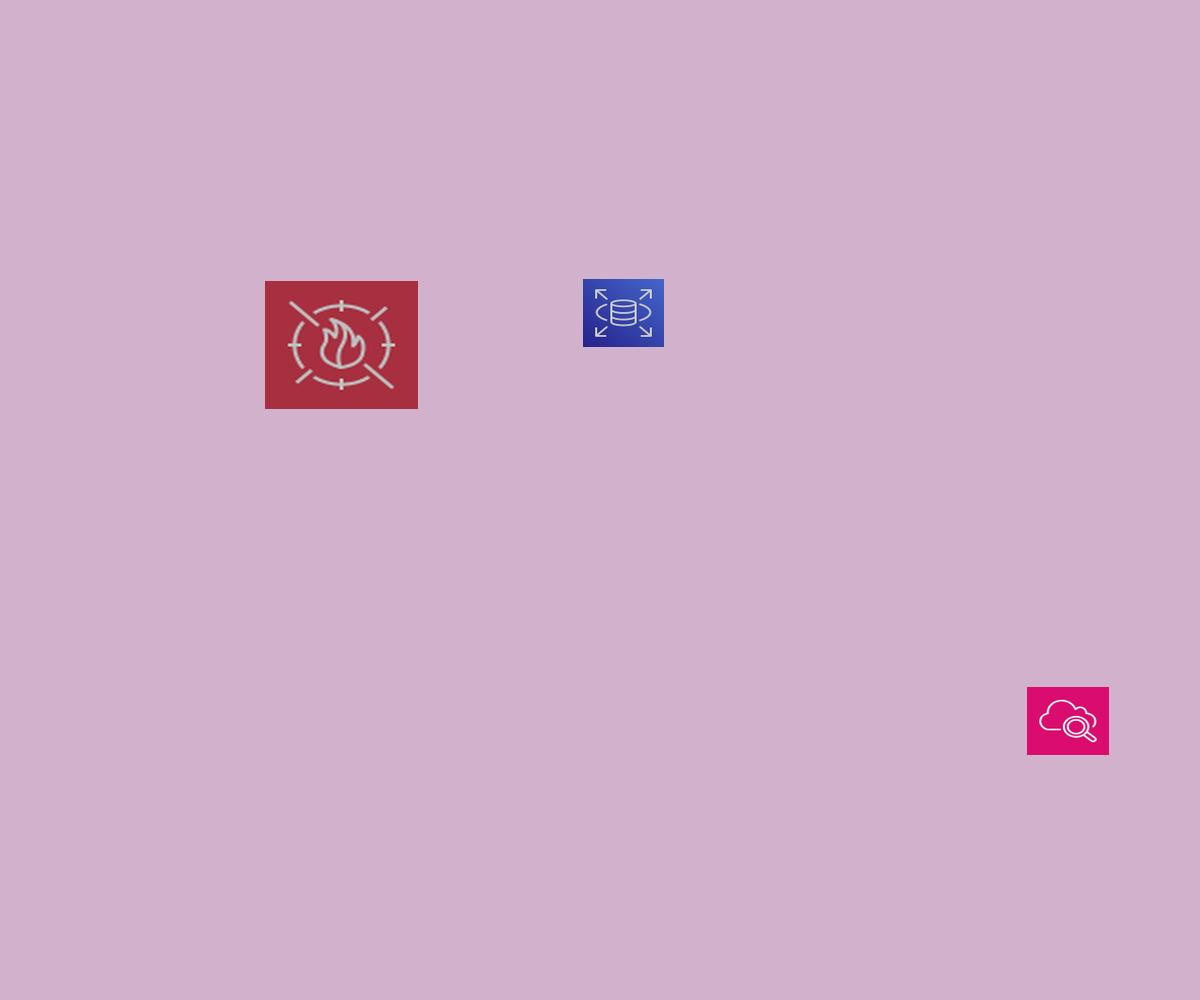AWS-CloudWatch: (1027, 687, 1109, 755)
AWS-RDS: (583, 279, 664, 347)
AWS-WAF: (265, 281, 418, 409)
